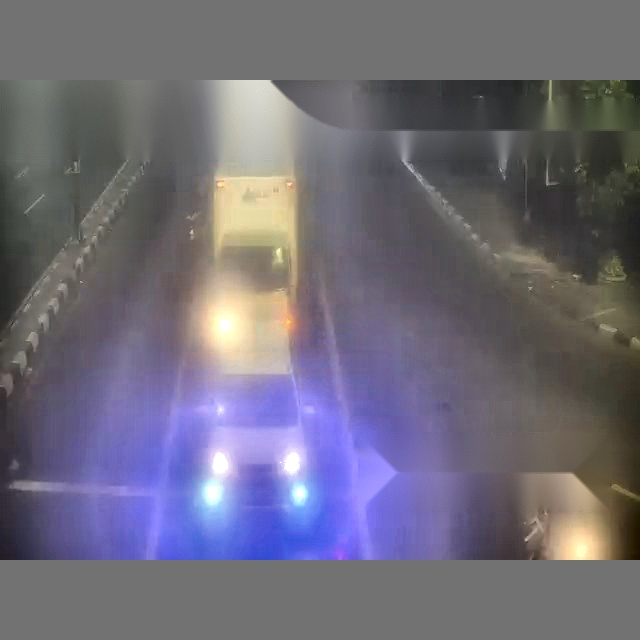Truk: (204, 79, 300, 370)
